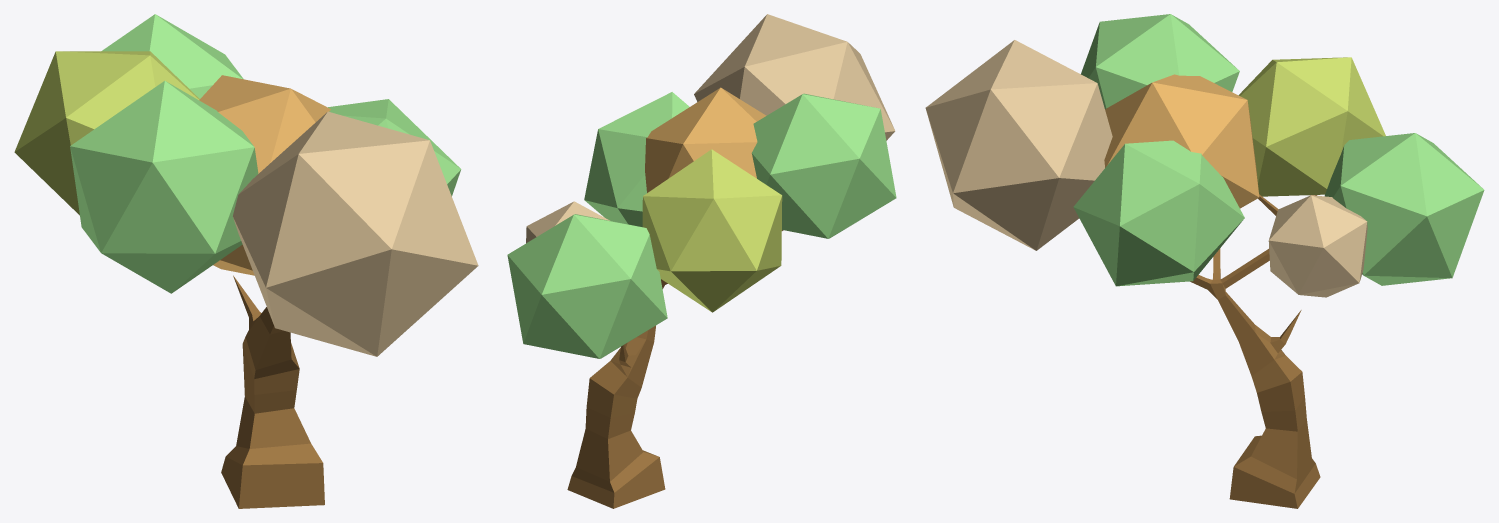
File: tree.fbx
3 renders of one model, left to right at view 1: azimuth 30°, elevation 25°; view 2: azimuth 150°, elevation 25°; view 3: azimuth 270°, elevation 25°, orthographic. The views are drawn at different scales.
Visible parts, largest first — view 1: Icosphere.004, Icosphere.003, Cube, Icosphere.002, Icosphere.007, Icosphere.001, Icosphere.005; view 2: Icosphere.001, Icosphere.002, Icosphere.003, Icosphere.004, Cube, Icosphere.007, Icosphere.005, Icosphere; view 3: Icosphere.004, Icosphere.005, Icosphere.001, Icosphere.002, Cube, Icosphere.007, Icosphere.003, Icosphere.
Part boxes in pixels (bbox=[...]): Icosphere.004: bbox=[233, 111, 478, 356]; Icosphere.003: bbox=[70, 81, 258, 293]; Cube: bbox=[221, 275, 324, 508]; Icosphere.002: bbox=[14, 51, 199, 215]; Icosphere.007: bbox=[199, 75, 330, 275]; Icosphere.001: bbox=[101, 14, 243, 98]; Icosphere.005: bbox=[328, 99, 461, 196]; Icosphere.001: bbox=[507, 214, 667, 358]; Icosphere.002: bbox=[642, 149, 782, 312]; Icosphere.003: bbox=[751, 93, 896, 238]; Icosphere.004: bbox=[694, 14, 895, 140]; Cube: bbox=[567, 279, 667, 508]; Icosphere.007: bbox=[645, 87, 783, 230]; Icosphere.005: bbox=[584, 92, 689, 226]; Icosphere: bbox=[526, 201, 609, 243]; Icosphere.004: bbox=[925, 40, 1112, 250]; Icosphere.005: bbox=[1073, 140, 1244, 286]; Icosphere.001: bbox=[1324, 133, 1484, 285]; Icosphere.002: bbox=[1238, 57, 1385, 196]; Cube: bbox=[1190, 194, 1320, 508]; Icosphere.007: bbox=[1104, 74, 1259, 208]; Icosphere.003: bbox=[1081, 14, 1239, 108]; Icosphere: bbox=[1268, 195, 1367, 297].
Bounding box in the file's own units: 1003 × 1340 × 1667.
